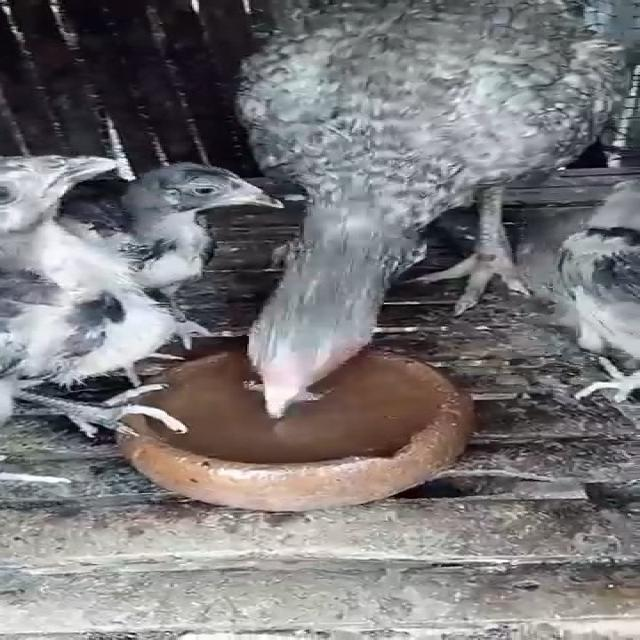drinking: (185, 0, 640, 422)
